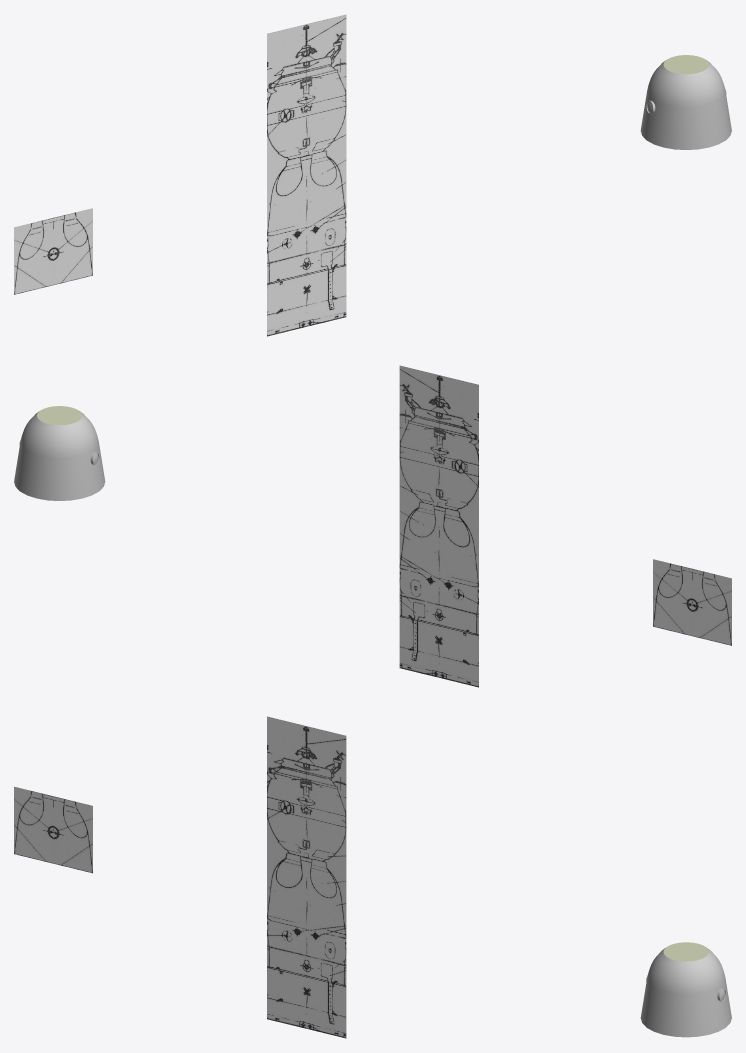
Rendered from tantares_crew_s1_1.obj.
3 views of the same model, one above another, from view 1: azimuth 30°, elevation 25°; view 2: azimuth 150°, elevation 25°; view 3: azimuth 330°, elevation 25° (orthographic).
Parts seen in each view (by area): view 1: image1, tantares_crew_s1_1, image7; view 2: image1, tantares_crew_s1_1, image7; view 3: image1, tantares_crew_s1_1, image7.
Part boxes in pixels (bbox=[...]): image1: bbox=[267, 14, 346, 336]; tantares_crew_s1_1: bbox=[640, 55, 731, 149]; image7: bbox=[14, 208, 92, 294]; image1: bbox=[399, 365, 478, 687]; tantares_crew_s1_1: bbox=[14, 406, 105, 500]; image7: bbox=[653, 559, 731, 645]; image1: bbox=[267, 716, 346, 1038]; tantares_crew_s1_1: bbox=[640, 942, 731, 1037]; image7: bbox=[14, 786, 92, 873].
Size of the model in its own units: 11.25 by 4.57 by 1.25.
